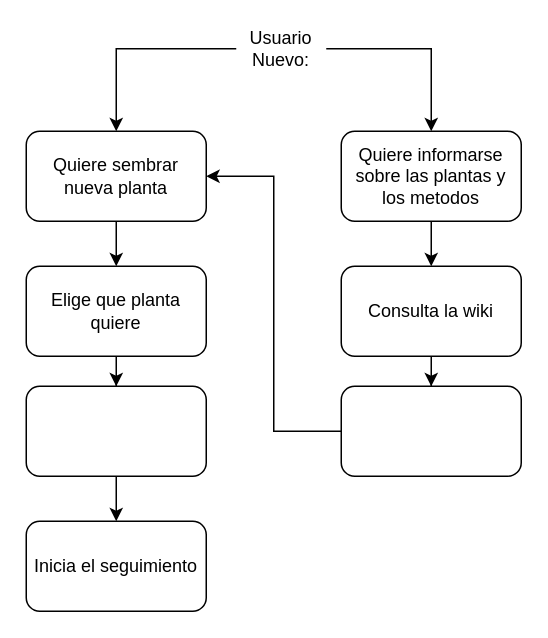
This 548x638 diagram has some shape labels left out. Here are the shapes that lost their labels. From the top down, the centre of each, then its label:
At pixel 115 430: "Elije que método quiere usar".
At pixel 430 430: "Elije que hacer".
